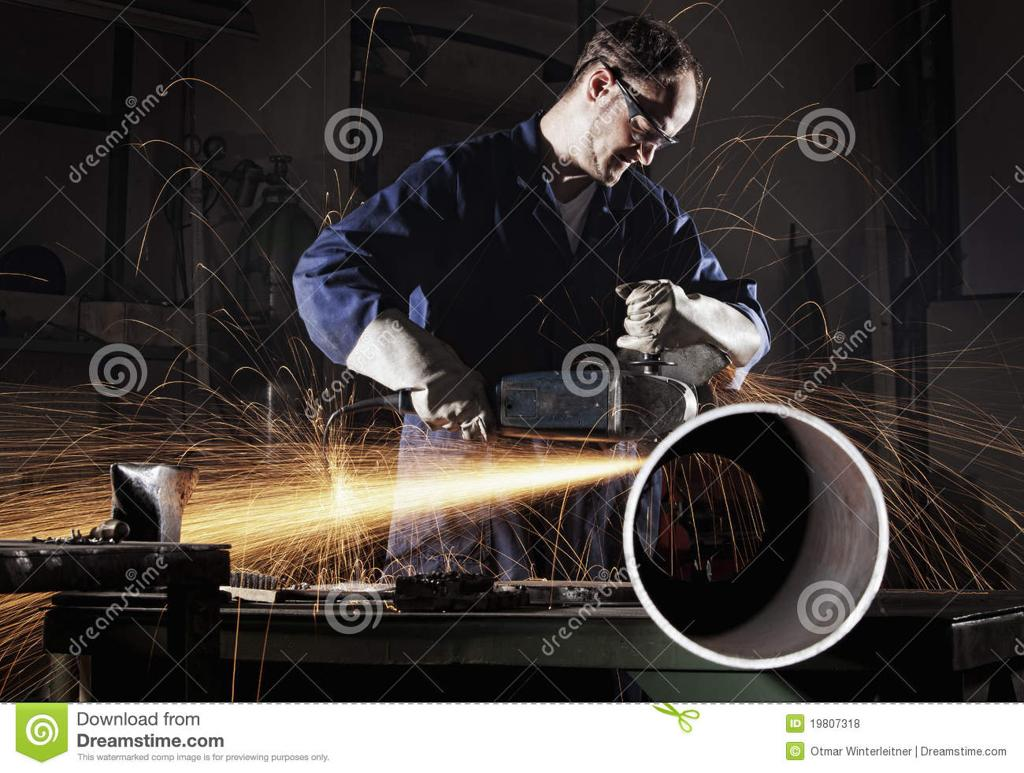face: (602, 70, 692, 188)
